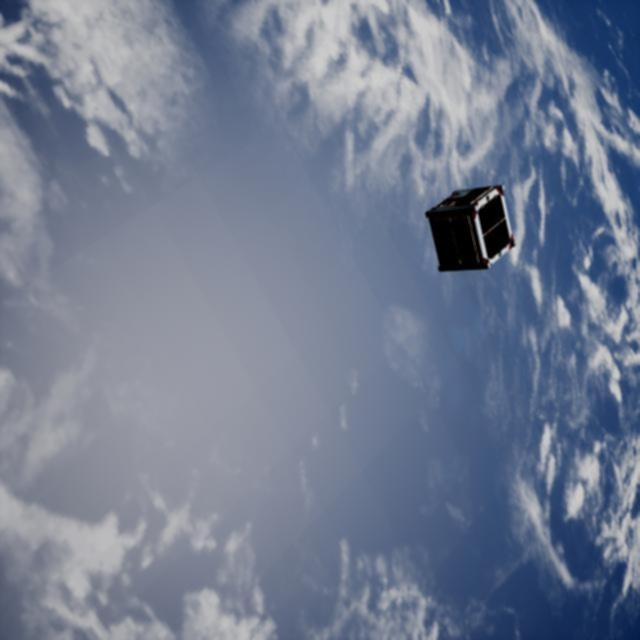medium_debris: (417, 181, 523, 277)
